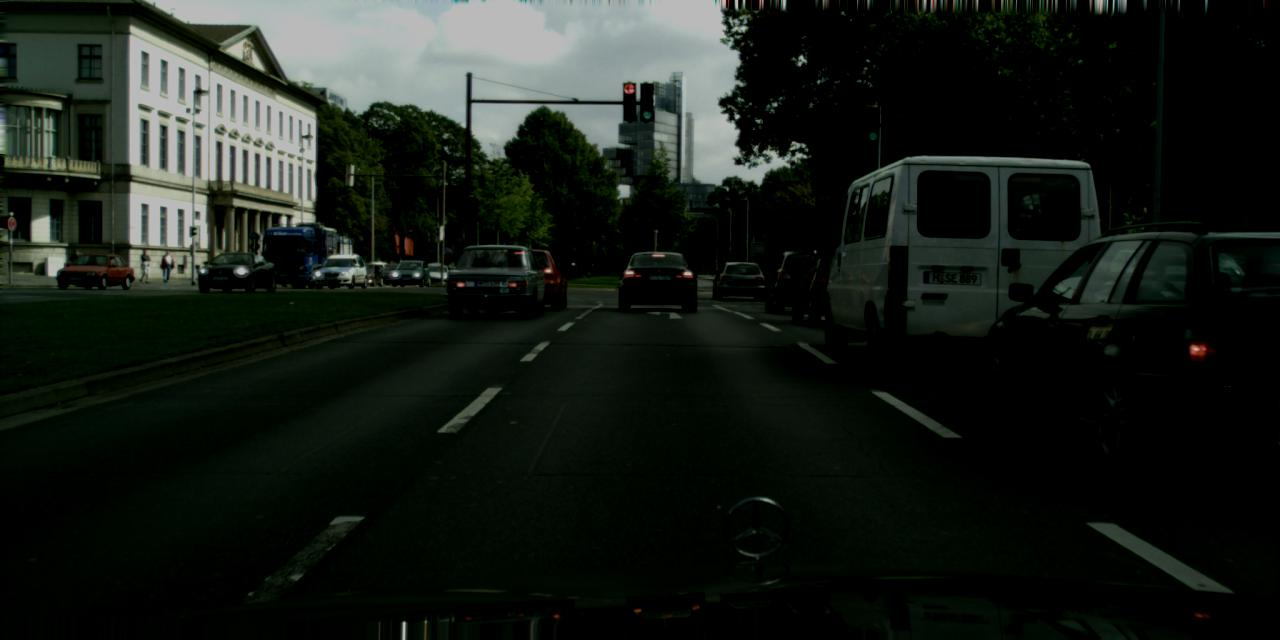ped: (159, 250, 172, 282), (138, 249, 150, 282), (70, 250, 82, 282)
